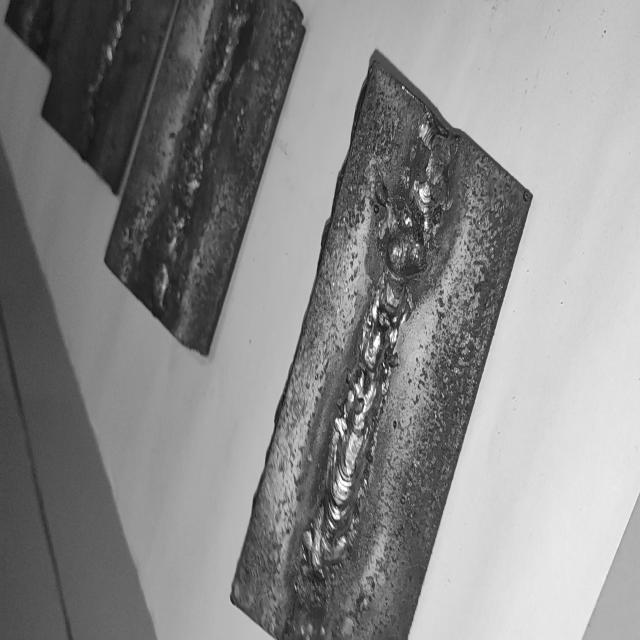Bad Weld: (271, 96, 467, 640), (136, 0, 257, 329)
Defect: (376, 115, 454, 333), (143, 153, 198, 313), (280, 509, 339, 640)
Good Weld: (73, 0, 133, 162)
